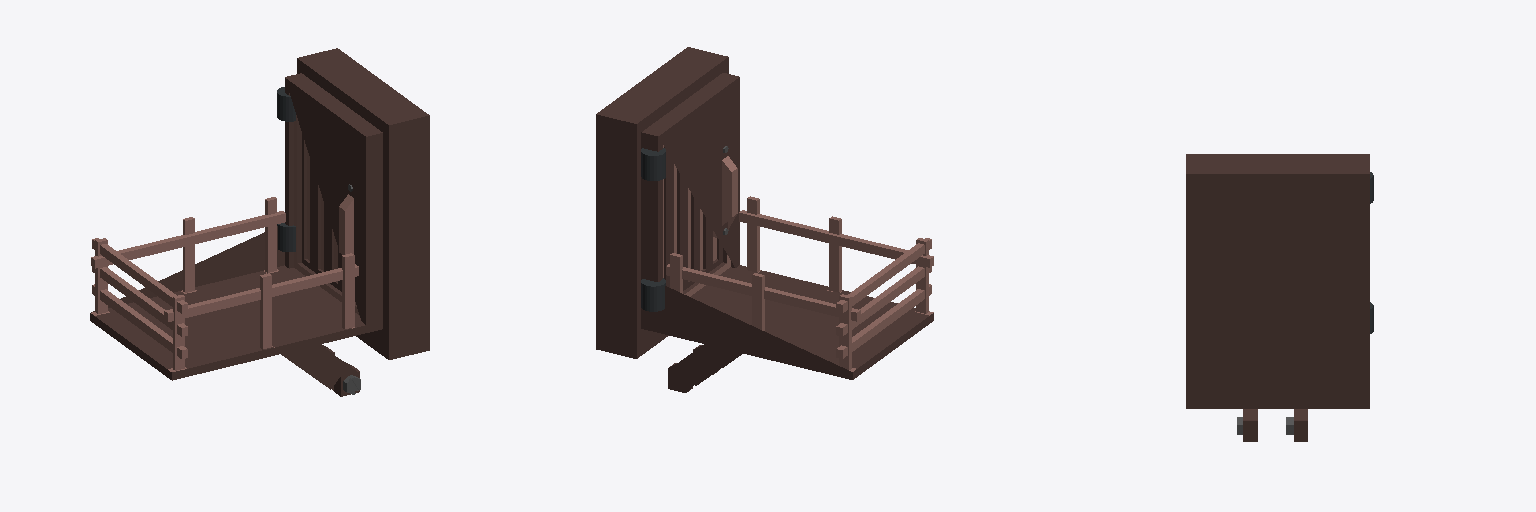
Rendered from Tower.obj.
3 views of the same model, side by side, from view 1: azimuth 30°, elevation 25°; view 2: azimuth 150°, elevation 25°; view 3: azimuth 270°, elevation 25° (orthographic).
Visible parts, largest first — view 1: Mesh1 Model; view 2: Mesh1 Model; view 3: Mesh1 Model.
Boxes of the visible parts, box(x1,y1,x2,y2) form: Mesh1 Model: box(90, 48, 429, 396); Mesh1 Model: box(596, 47, 933, 392); Mesh1 Model: box(1186, 154, 1373, 441).
Bounding box in the file's own units: 6.86 × 7.43 × 4.39.